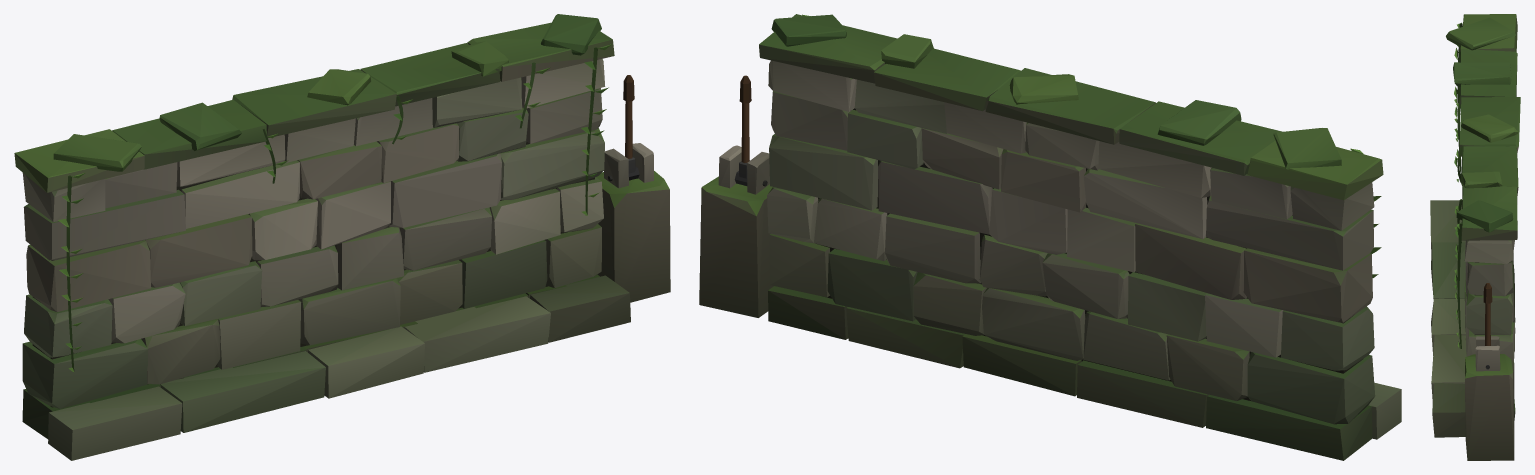
The model's file is feed-wall.glb.
The picture shows the model from 3 angles, left to right: view 1: azimuth 30°, elevation 25°; view 2: azimuth 150°, elevation 25°; view 3: azimuth 270°, elevation 25°; orthographic projection. The views are drawn at different scales.
Visible parts, largest first — view 1: feed-wall, lever; view 2: feed-wall, lever; view 3: feed-wall, lever.
Boxes of the visible parts, x1,y1,x2,y2 form: feed-wall: (14, 14, 670, 460); lever: (623, 75, 639, 180); feed-wall: (699, 14, 1401, 460); lever: (734, 75, 751, 185); feed-wall: (1430, 14, 1520, 460); lever: (1483, 283, 1492, 345).
Size of the model in its own units: 6.34 by 2.7 by 1.02.
